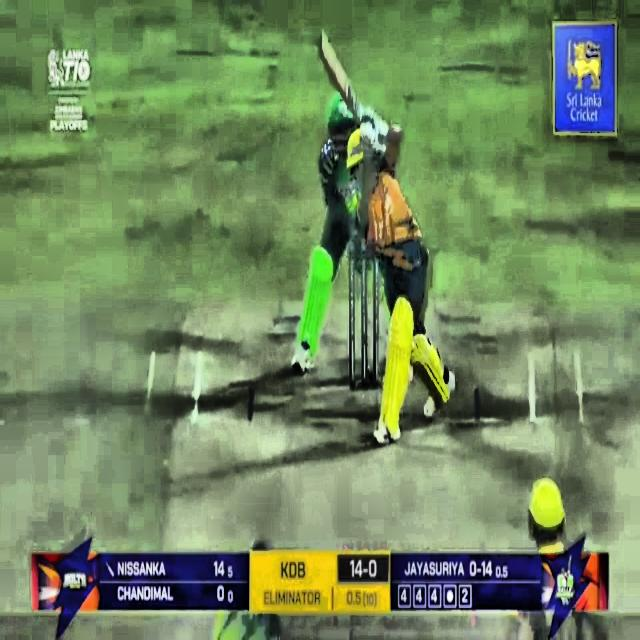Left-stump: (349, 254, 355, 388)
Middle-stump: (363, 259, 367, 390)
Right-stump: (371, 253, 378, 390)
